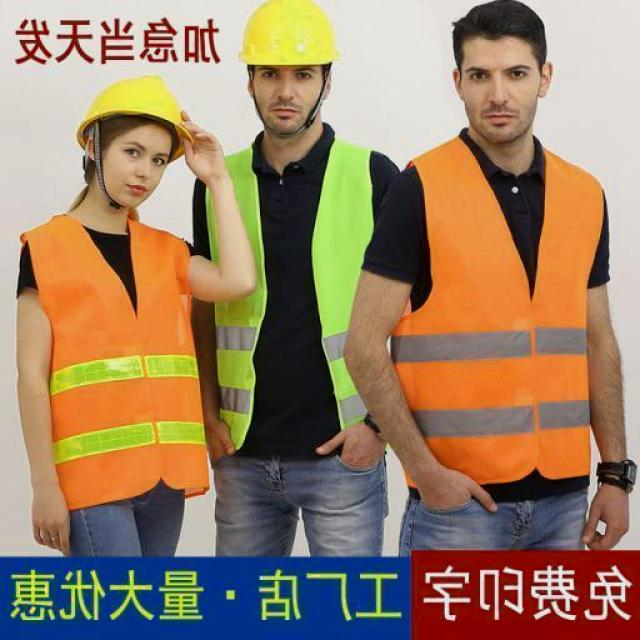face_nomask: (458, 58, 541, 131), (247, 59, 325, 131), (105, 130, 174, 204)
hand_noglove: (582, 478, 638, 552), (174, 106, 226, 180), (24, 494, 80, 558)
head_helmet: (74, 71, 192, 141), (238, 0, 344, 71)
head_nohelmet: (447, 0, 555, 51)
person: (382, 1, 632, 557), (190, 0, 410, 556), (0, 71, 250, 560)
vest: (387, 126, 608, 493), (14, 210, 216, 504), (203, 142, 375, 459)
